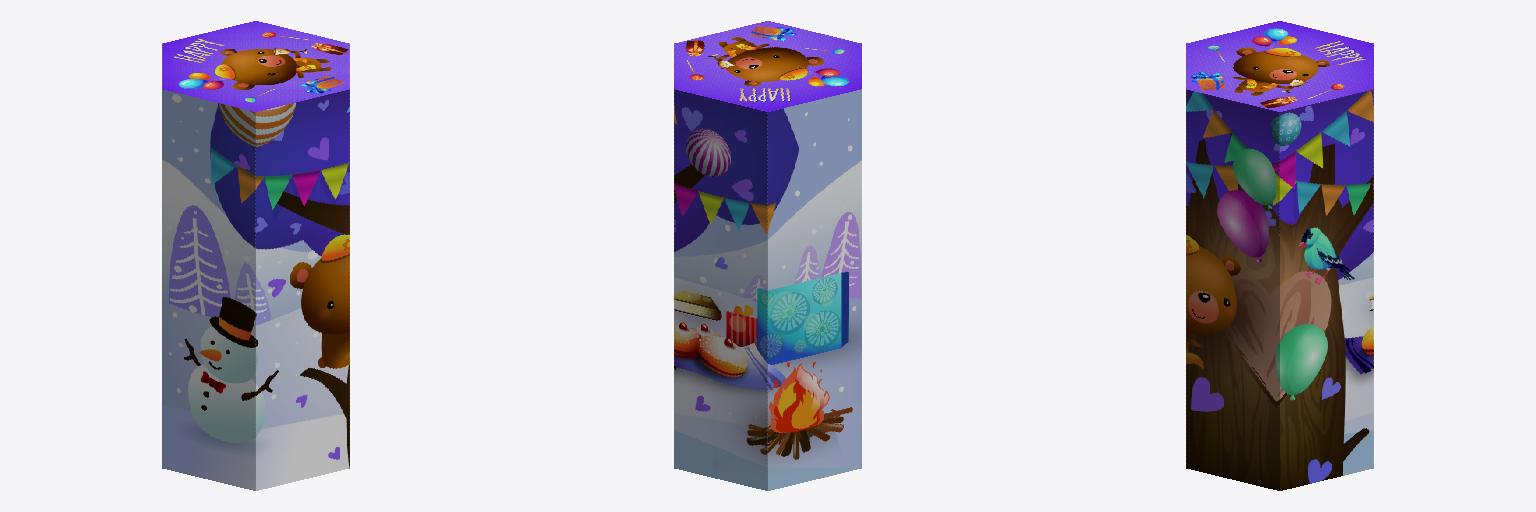
The picture shows the model from 3 angles: view 1: azimuth 30°, elevation 25°; view 2: azimuth 150°, elevation 25°; view 3: azimuth 270°, elevation 25°; orthographic projection.
Visible parts, largest first — view 1: hexagon:hexagon; view 2: hexagon:hexagon; view 3: hexagon:hexagon.
Part boxes in pixels (bbox=[...]): hexagon:hexagon: bbox=[162, 21, 349, 490]; hexagon:hexagon: bbox=[674, 21, 861, 490]; hexagon:hexagon: bbox=[1186, 21, 1373, 490].
Bounding box in the file's own units: 6.95 × 13.43 × 6.02.
Materials: 1 (1 with a texture image).